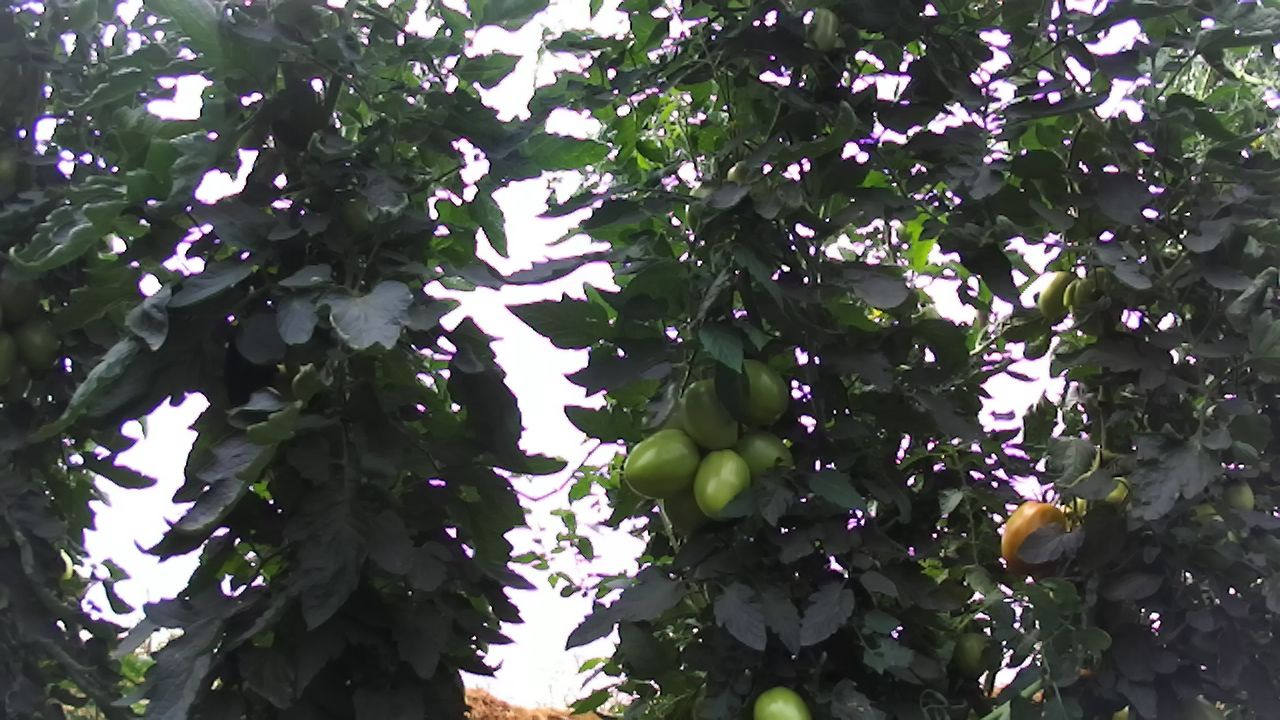tomato: (619, 424, 705, 503), (993, 495, 1072, 577), (717, 353, 794, 428), (676, 374, 742, 459), (689, 444, 753, 521), (737, 428, 798, 486), (751, 682, 818, 720), (1035, 266, 1079, 323)
